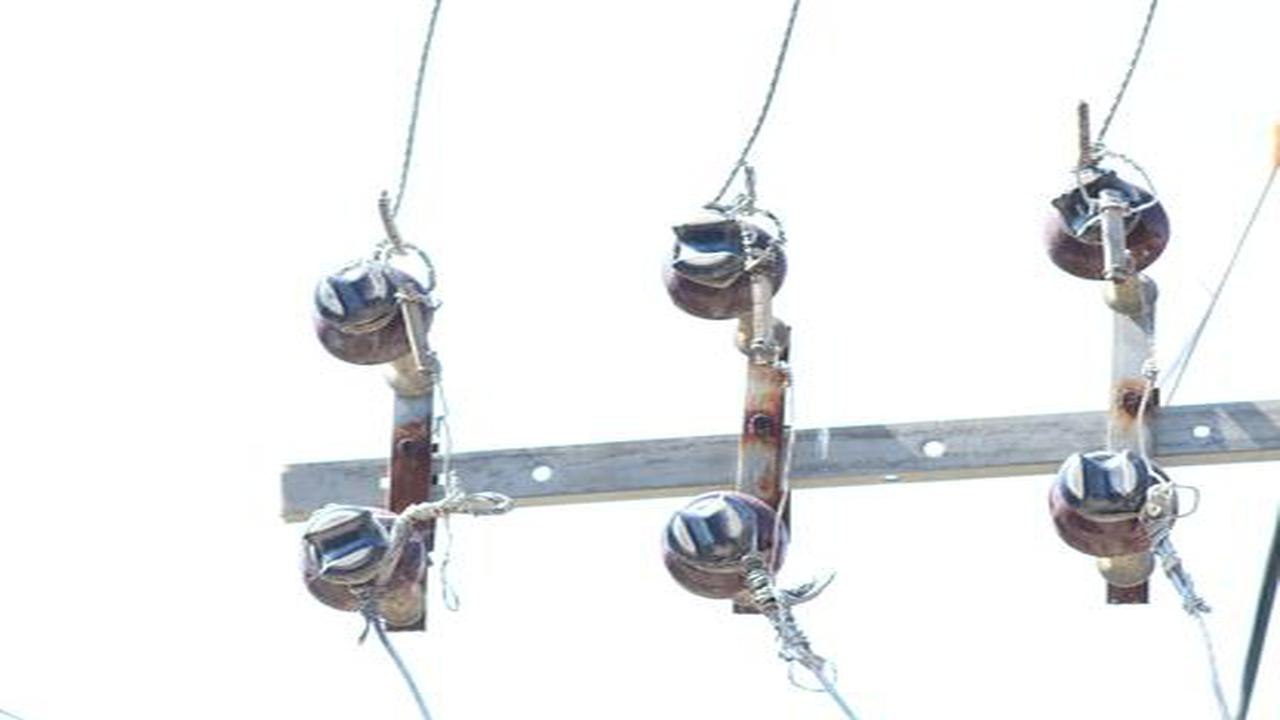insulator_pin: (652, 485, 799, 604), (291, 497, 430, 619), (1035, 163, 1176, 281), (1046, 441, 1179, 564), (654, 207, 792, 325), (307, 254, 433, 367)
